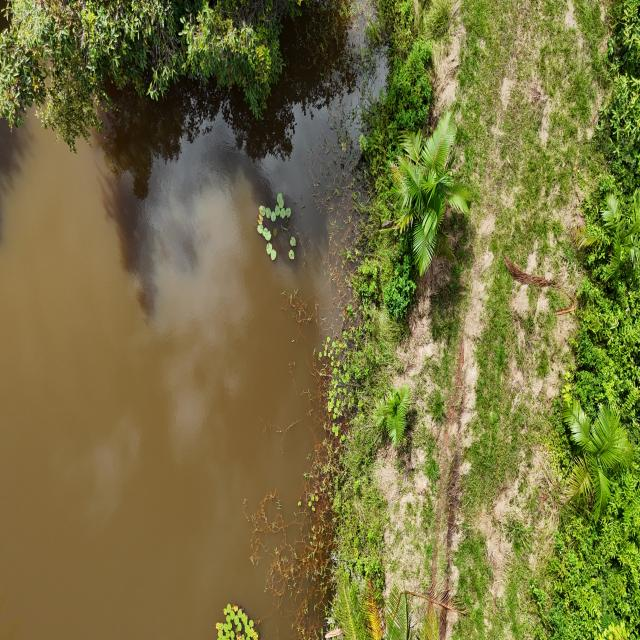vegetation: (387, 108, 470, 278)
